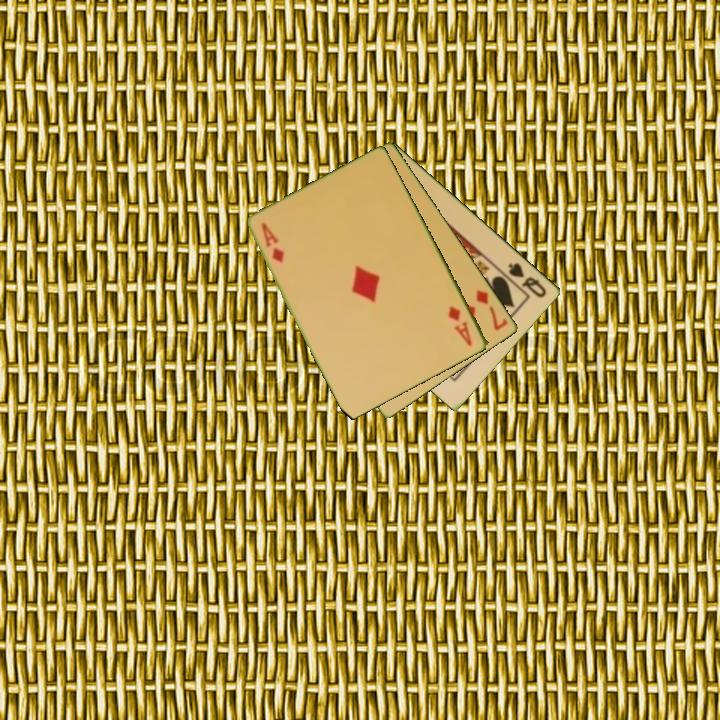7d: (473, 286, 511, 333)
Ad: (258, 219, 288, 266), (445, 303, 475, 349)
Qs: (505, 259, 550, 301)
